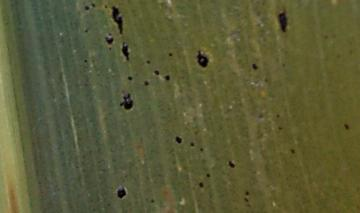tarspot: (109, 4, 128, 35), (275, 7, 291, 33), (193, 48, 211, 70), (119, 92, 136, 111), (119, 40, 132, 63), (114, 185, 128, 200), (103, 34, 115, 46), (173, 133, 184, 146), (248, 61, 260, 72), (162, 73, 173, 83), (227, 158, 236, 170), (196, 180, 206, 189), (152, 68, 161, 77), (81, 4, 91, 12), (342, 123, 350, 132), (141, 79, 150, 87), (125, 74, 134, 82), (242, 189, 252, 196), (188, 140, 196, 148), (197, 145, 205, 153), (289, 147, 297, 155), (242, 196, 251, 203), (276, 124, 283, 133), (274, 109, 280, 119), (204, 171, 211, 179), (144, 58, 152, 65), (166, 51, 174, 58), (82, 57, 89, 65), (89, 1, 97, 8), (83, 26, 89, 35), (148, 198, 156, 204), (107, 46, 113, 52), (103, 3, 108, 9)
